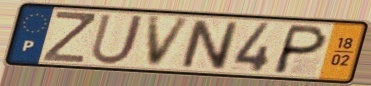4: (232, 21, 272, 74)
N: (179, 18, 240, 72)
P: (269, 23, 330, 76)
U: (88, 12, 148, 67)
V: (146, 15, 195, 69)
Z: (40, 9, 98, 65)
